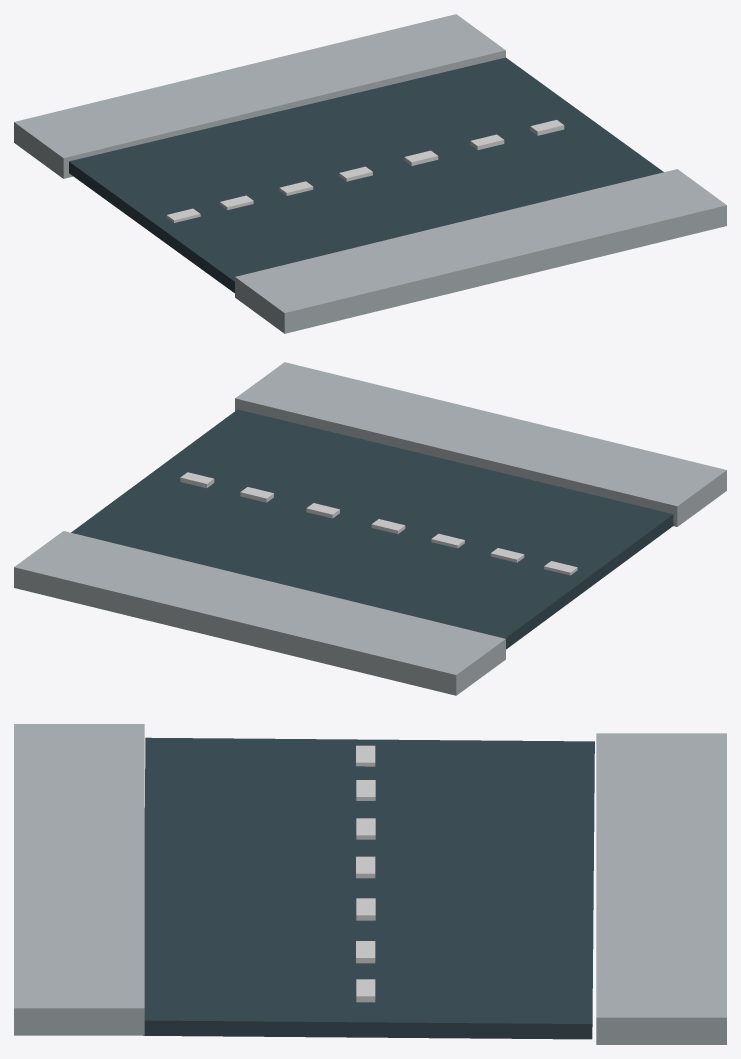
3 views of the same model, one above another, from view 1: azimuth 30°, elevation 25°; view 2: azimuth 150°, elevation 25°; view 3: azimuth 270°, elevation 25° (orthographic). The views are drawn at different scales.
Visible parts, largest first — view 1: node_MeshObject-2008063744-PolyPaper21; view 2: node_MeshObject-2008063744-PolyPaper21; view 3: node_MeshObject-2008063744-PolyPaper21.
Part boxes in pixels (box(x1,y1,x2,y2)): node_MeshObject-2008063744-PolyPaper21: box(14, 14, 726, 333); node_MeshObject-2008063744-PolyPaper21: box(14, 362, 726, 695); node_MeshObject-2008063744-PolyPaper21: box(14, 724, 726, 1044).
Bounding box in the file's own units: 0.67 × 0.04 × 0.71.
